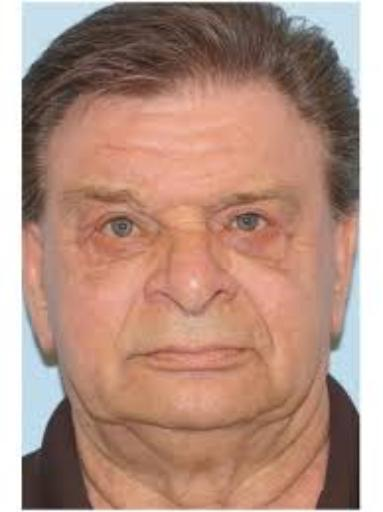left_eye: (221, 211, 283, 237)
left_lip_corner: (238, 341, 261, 361)
right_eye: (90, 214, 146, 243)
right_lip_corner: (123, 346, 145, 368)
